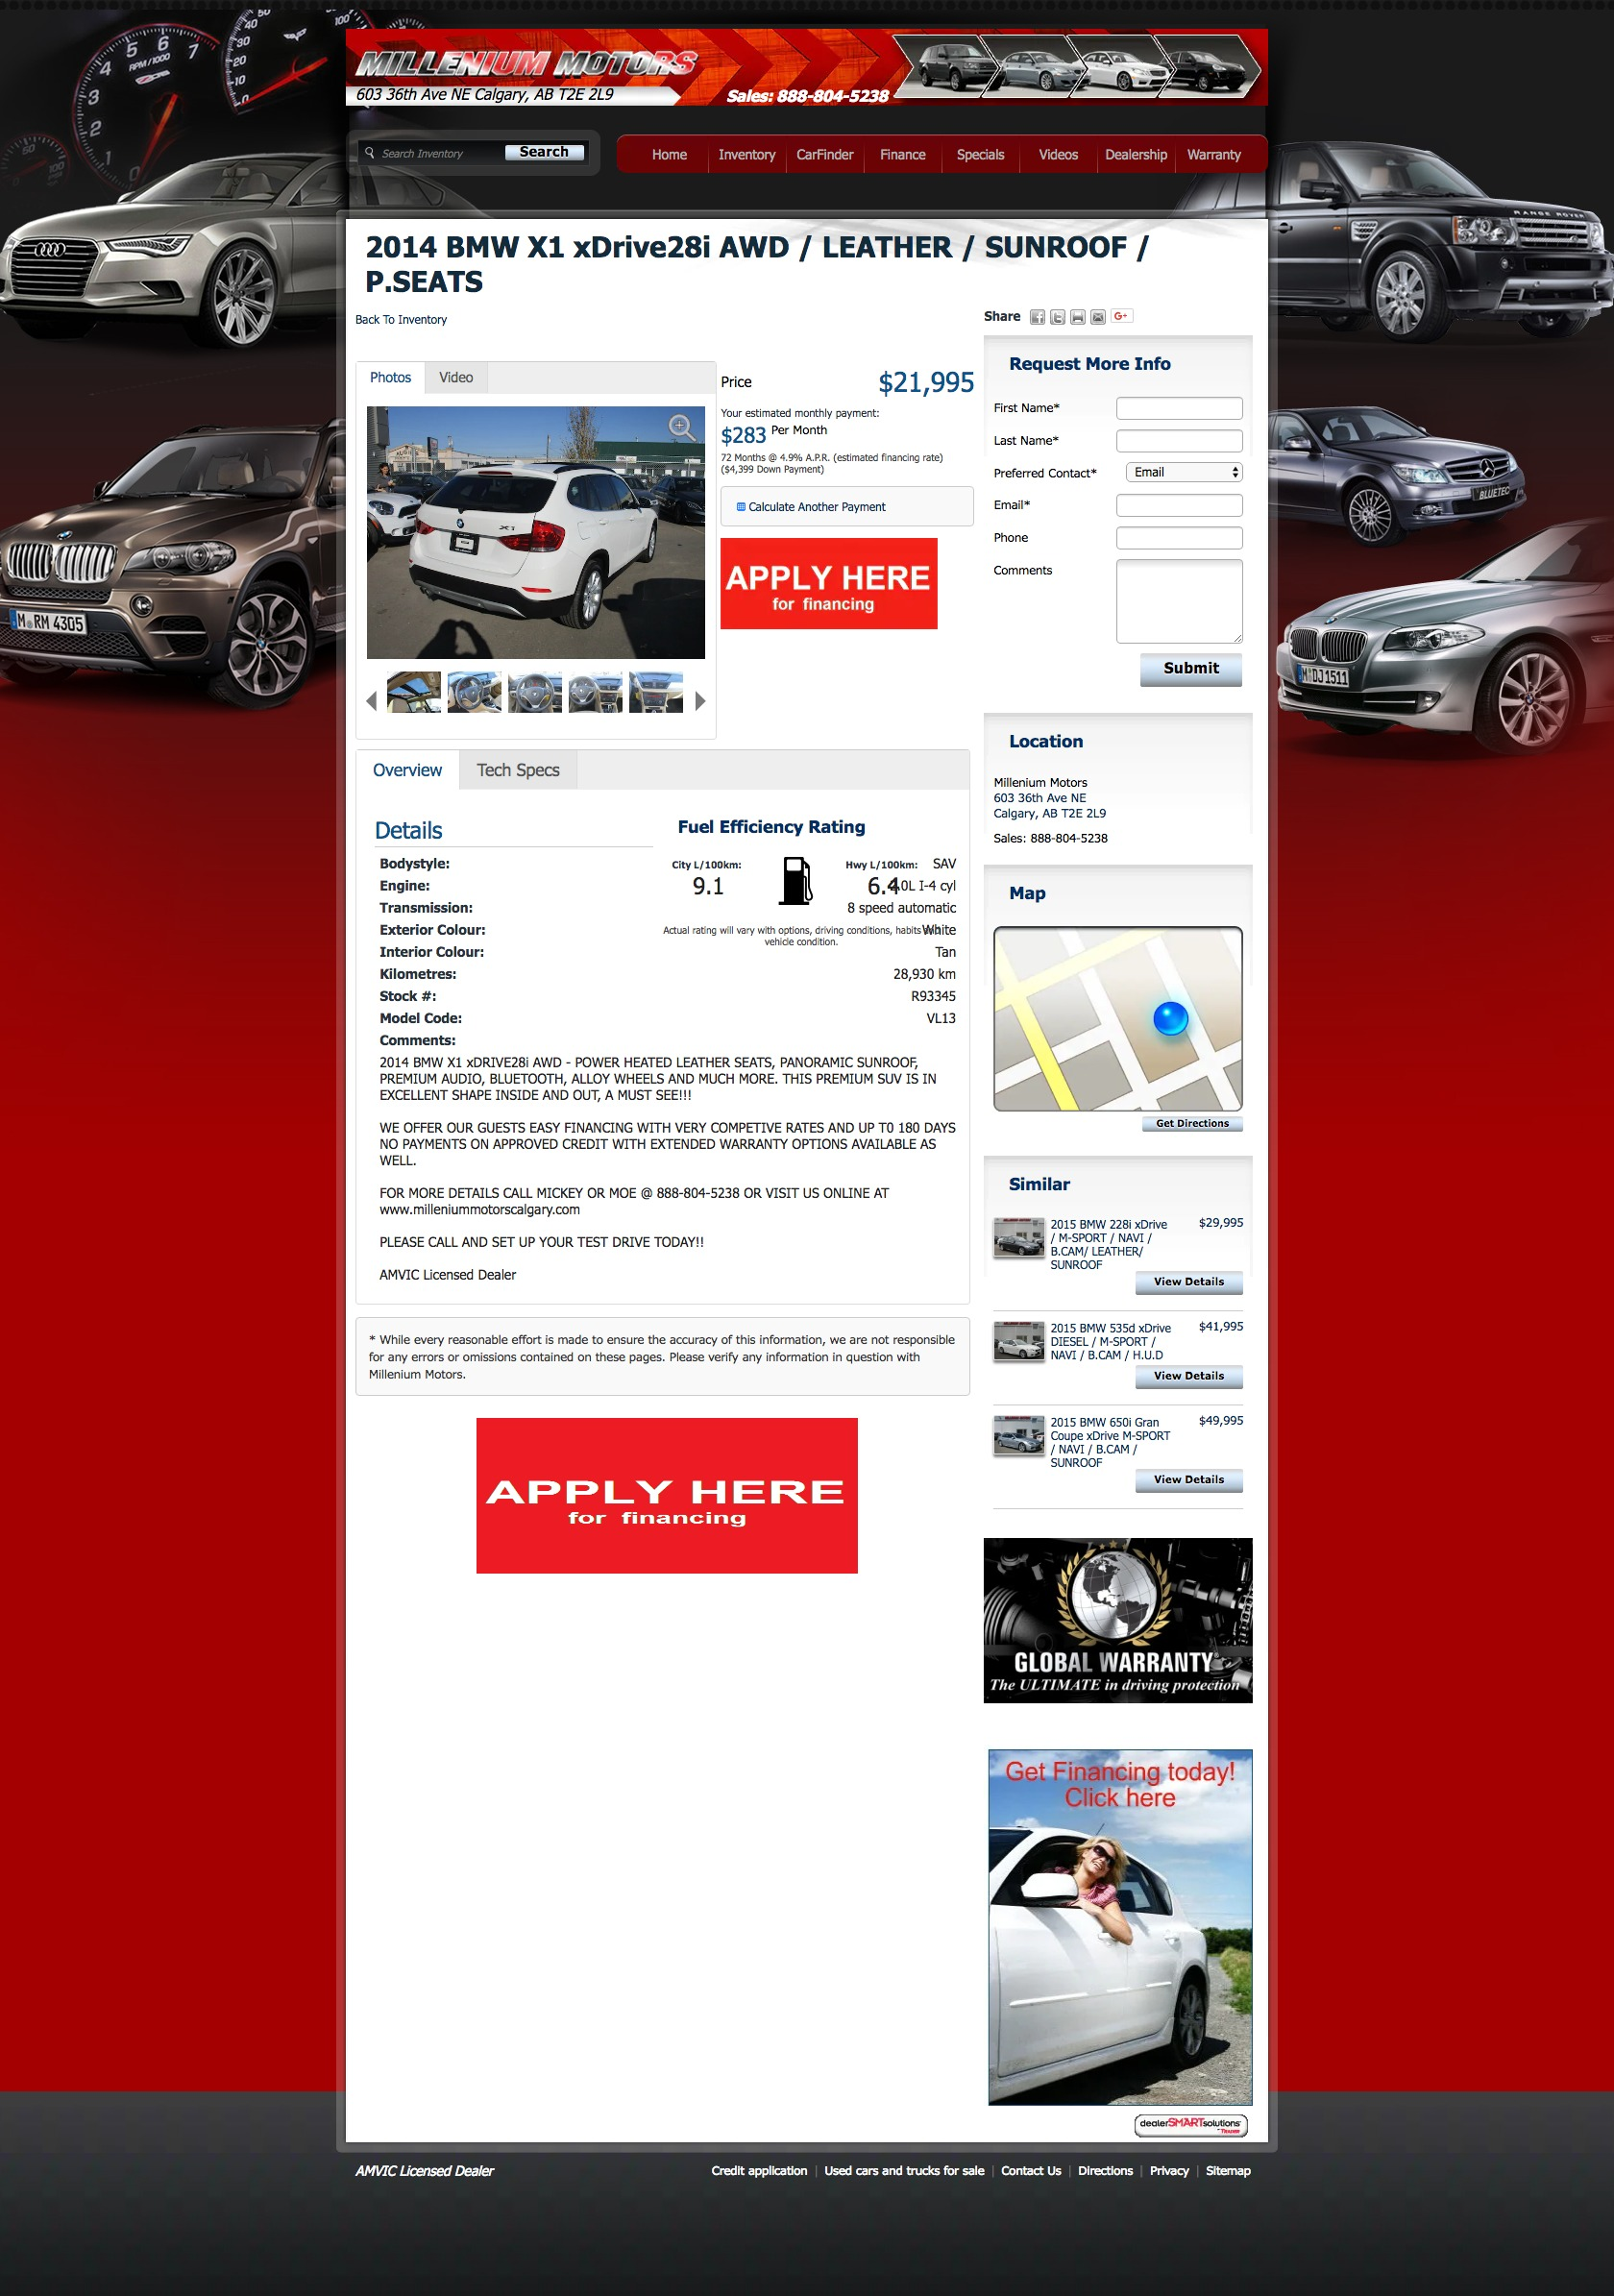car: (695, 691, 707, 712)
